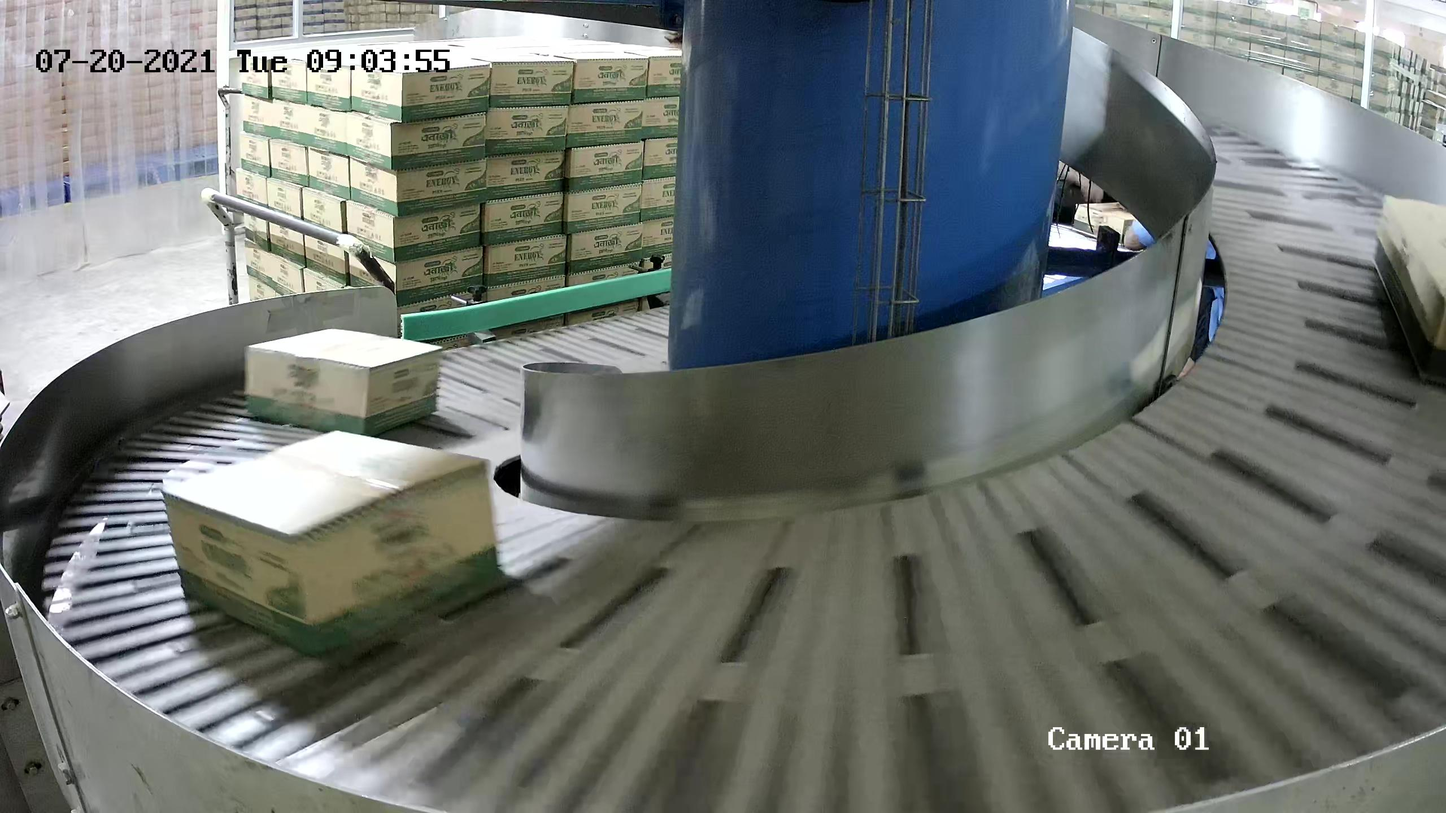Box: (160, 428, 505, 661), (242, 325, 445, 438), (1367, 191, 1446, 393)
